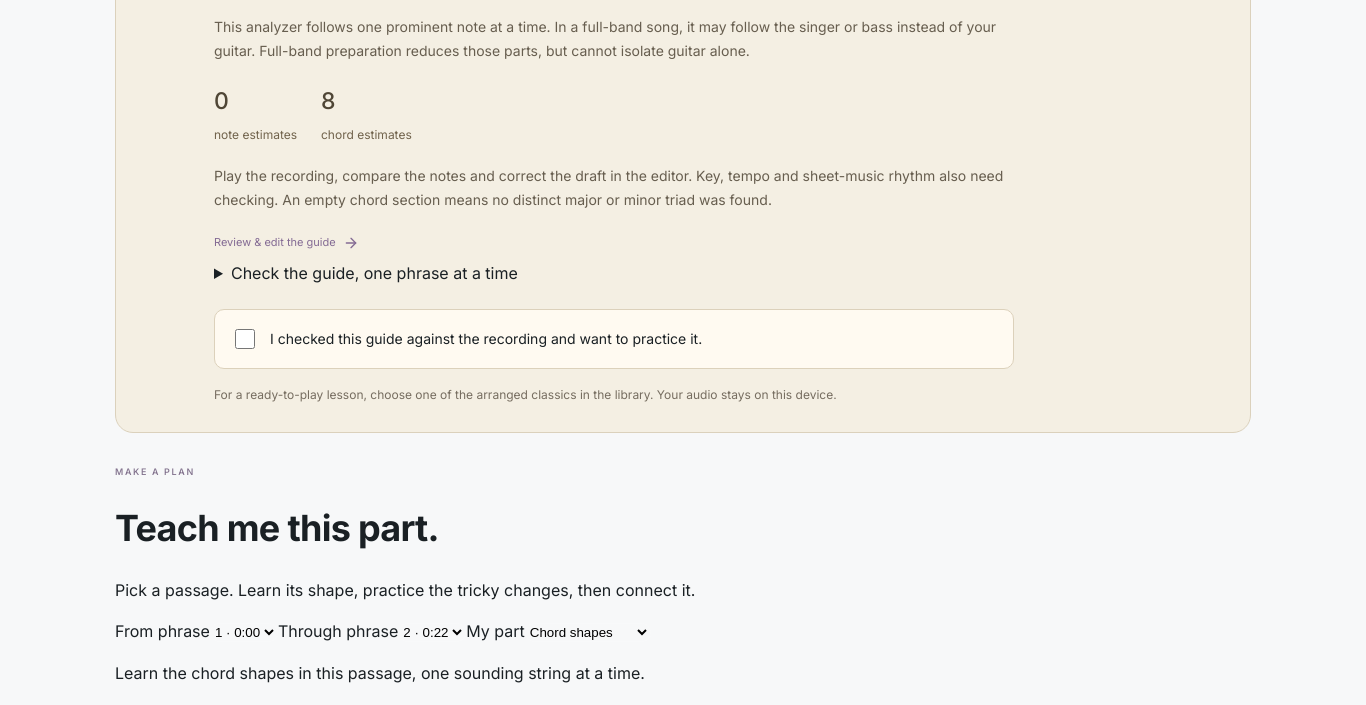
Test: routes a reviewed chord-only import into guided chord practice
(page scrolled)
What coordinates should you click on to do the following:
click the checkbox
I would click on:
 (245, 338)
Its box is 235,328 -> 255,348.
(page scrolled)
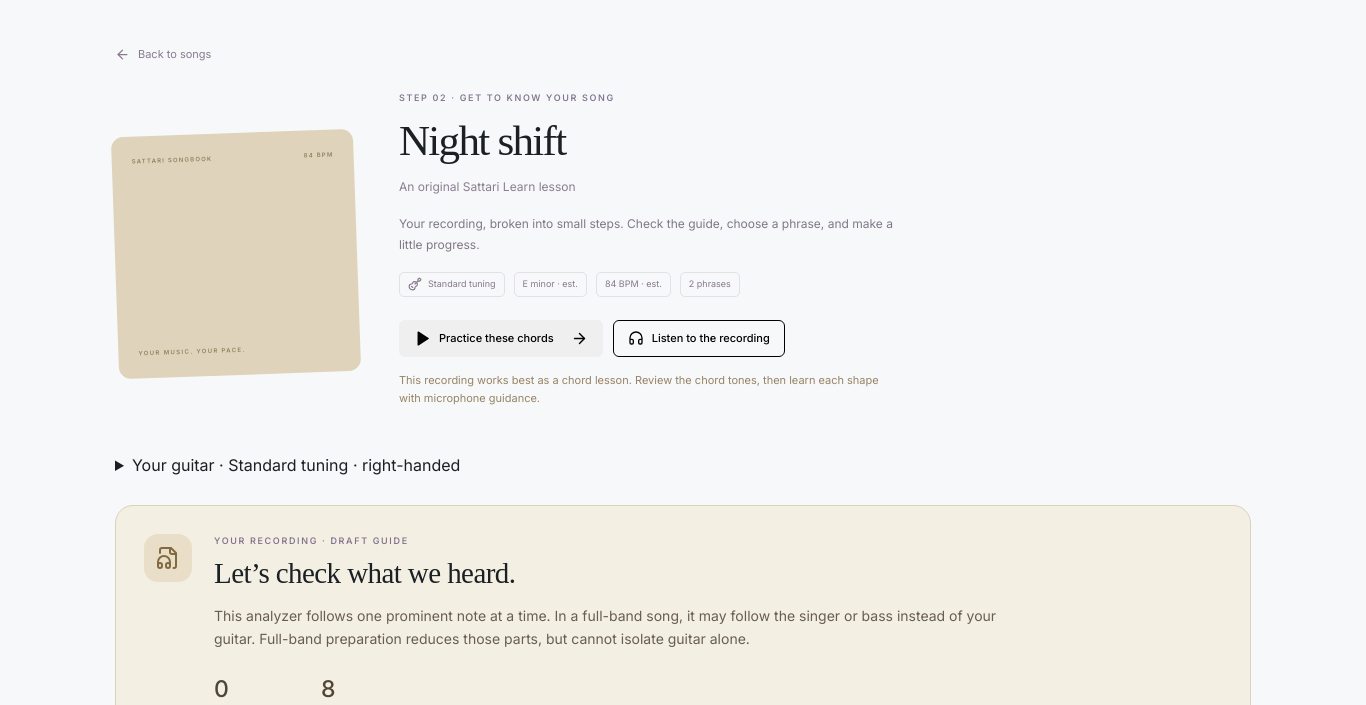
What coordinates should you click on to do the following:
click the button "Practice these chords"
I would click on:
 (501, 338)
Its box is 399,320 -> 603,357.
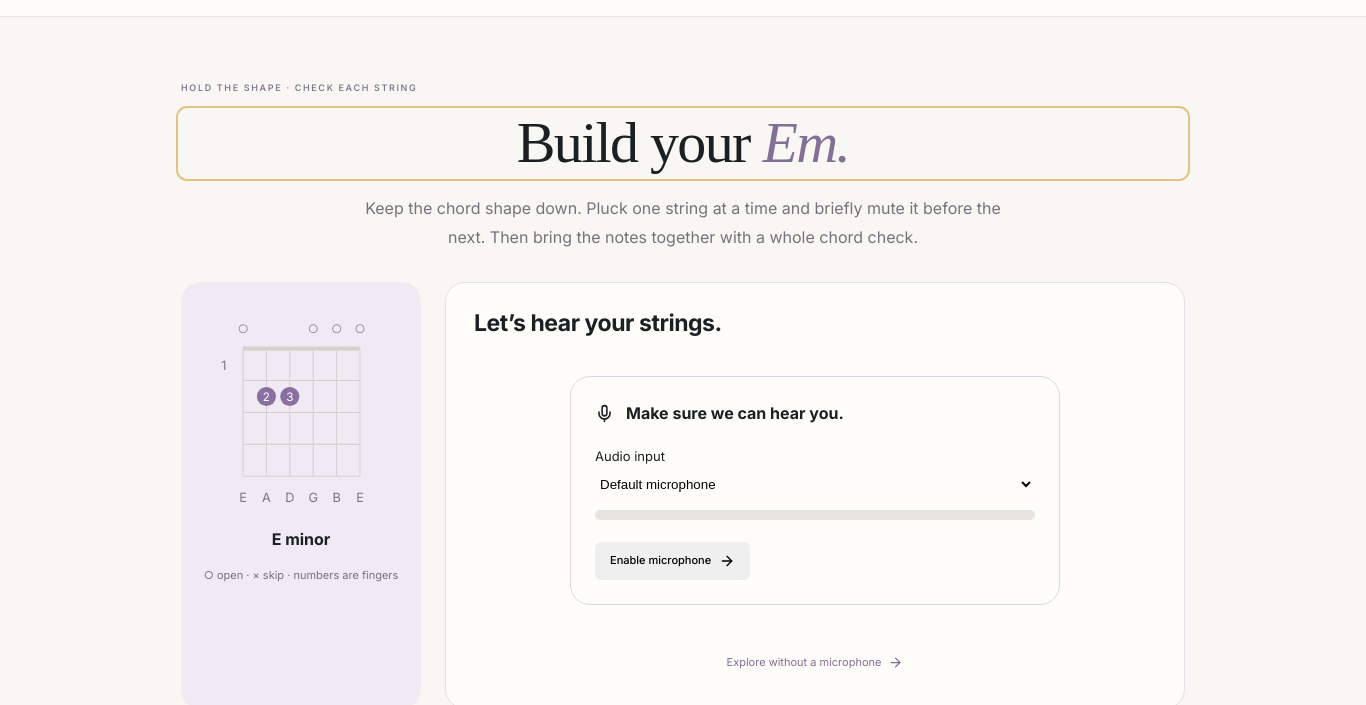
Expected: the heading "Build your Em." is shown, 517,110 -> 849,175
